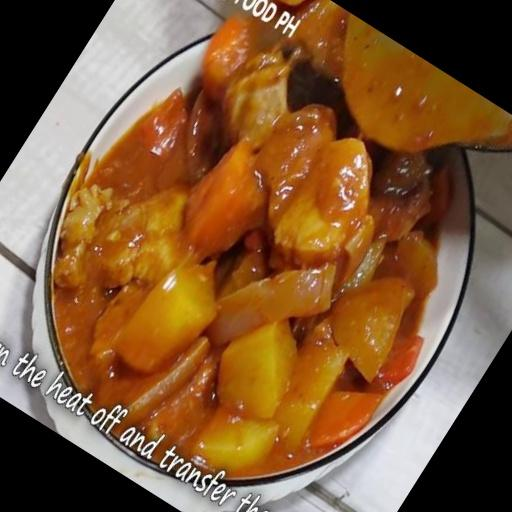pork caldereta: (32, 0, 511, 464)
